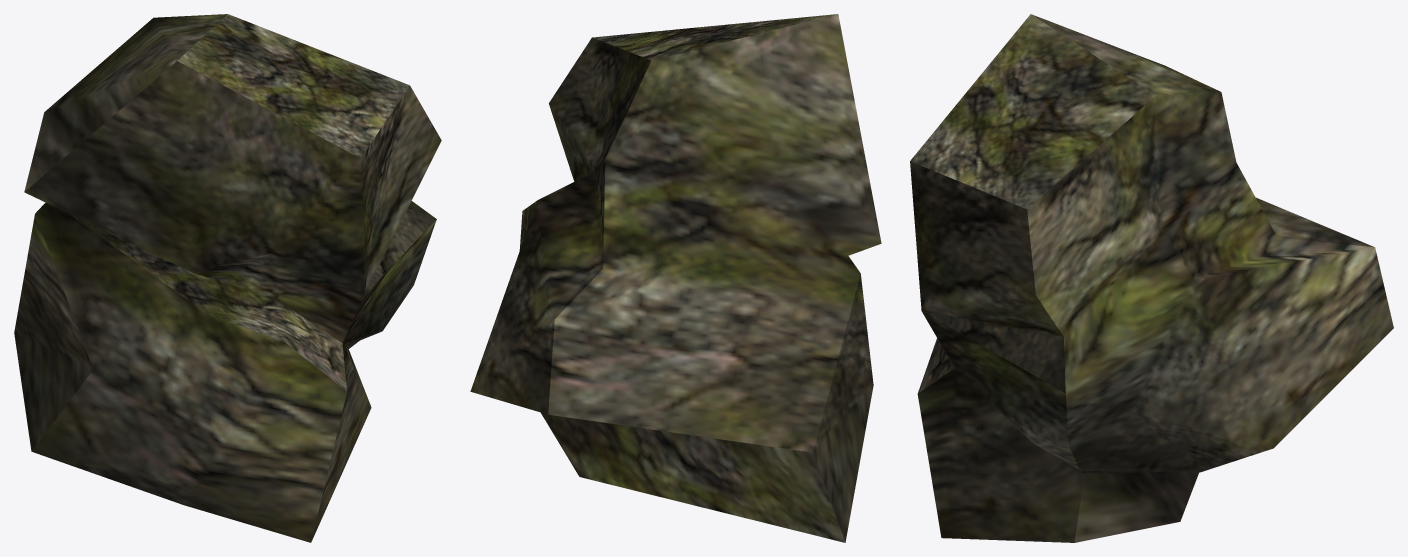
The picture shows the model from 3 angles, left to right: view 1: azimuth 30°, elevation 25°; view 2: azimuth 150°, elevation 25°; view 3: azimuth 270°, elevation 25°; orthographic projection. The views are drawn at different scales.
Visible parts, largest first — view 1: wj21; view 2: wj21; view 3: wj21.
Boxes of the visible parts, bbox=[...] form: wj21: bbox=[14, 14, 441, 542]; wj21: bbox=[470, 14, 881, 542]; wj21: bbox=[910, 14, 1393, 542].
Bounding box in the file's own units: 295 × 356 × 326.
